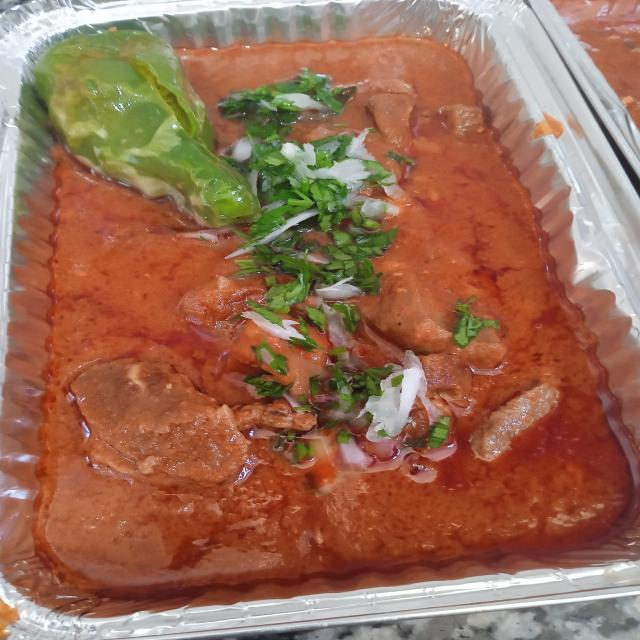kamouniya: (41, 6, 634, 612)
